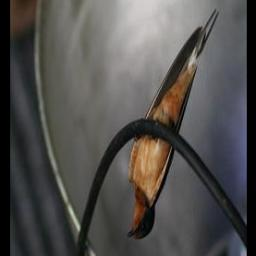Swallow: (123, 7, 224, 246)
